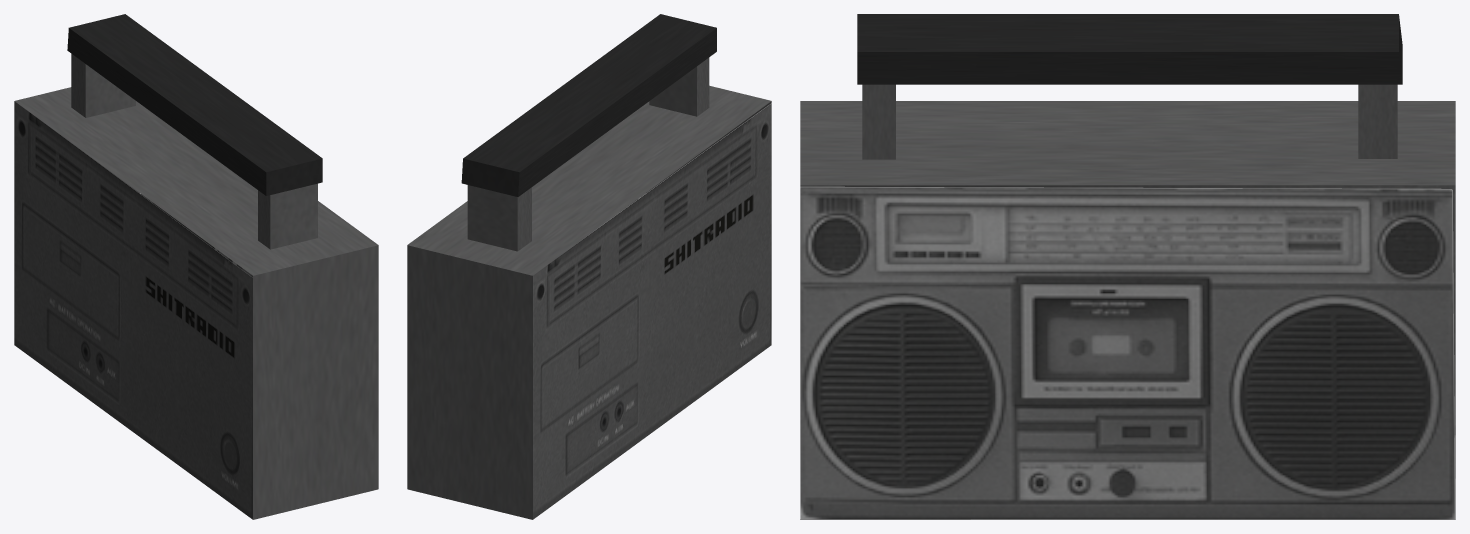
File: radio.fbx
3 views of the same model, side by side, from view 1: azimuth 30°, elevation 25°; view 2: azimuth 150°, elevation 25°; view 3: azimuth 270°, elevation 25° (orthographic). The views are drawn at different scales.
Parts seen in each view (by area): view 1: Cube.003; view 2: Cube.003; view 3: Cube.003.
Boxes of the visible parts, x1,y1,x2,y2 form: Cube.003: (14,14,378,519); Cube.003: (407,14,771,519); Cube.003: (800,14,1455,519).
Bounding box in the file's own units: 108 × 266 × 355.
